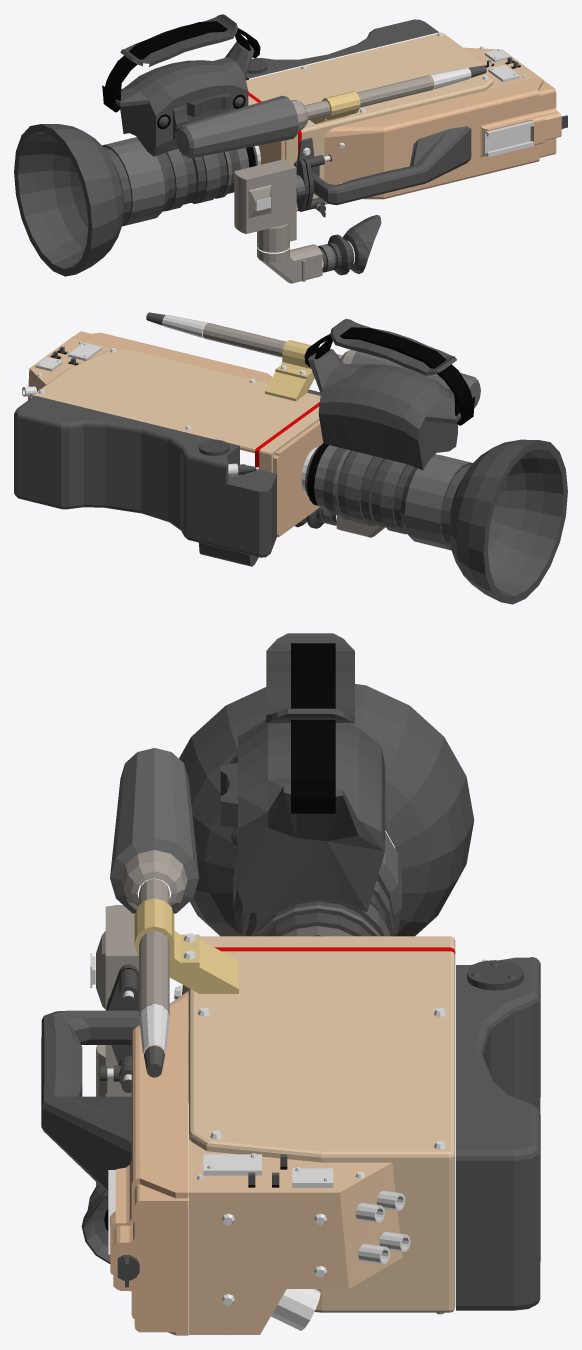
File: SONYM707.glb
3 renders of one model, top to bottom at view 1: azimuth 30°, elevation 25°; view 2: azimuth 150°, elevation 25°; view 3: azimuth 270°, elevation 25°, orthographic. The views are drawn at different scales.
Parts seen in each view (by area): view 1: _0; view 2: _0; view 3: _0.
Boxes of the visible parts, box(x1,y1,x2,y2) form: _0: box(14, 14, 567, 283); _0: box(14, 312, 567, 604); _0: box(41, 633, 540, 1335).
Size of the model in its own units: 5.76 by 2.84 by 2.67.
